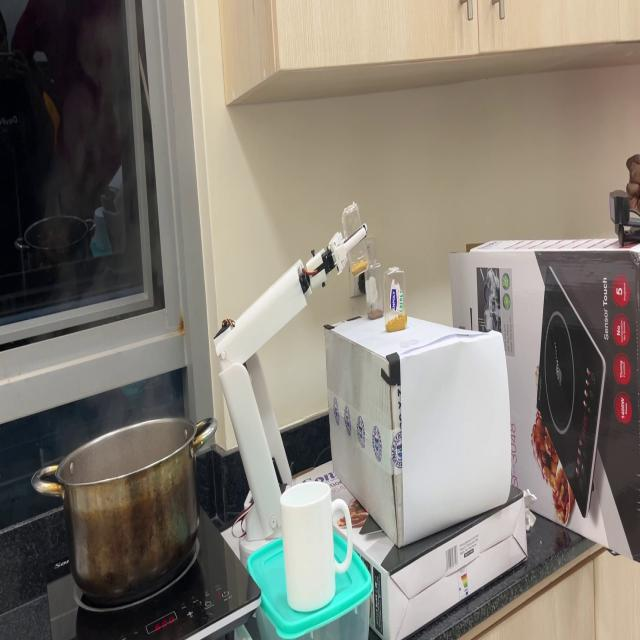cooking_pot: (32, 420, 230, 606)
curry_powder: (347, 256, 372, 282)
garlic_powder: (384, 314, 408, 336)
maggie_open: (369, 302, 382, 322)
